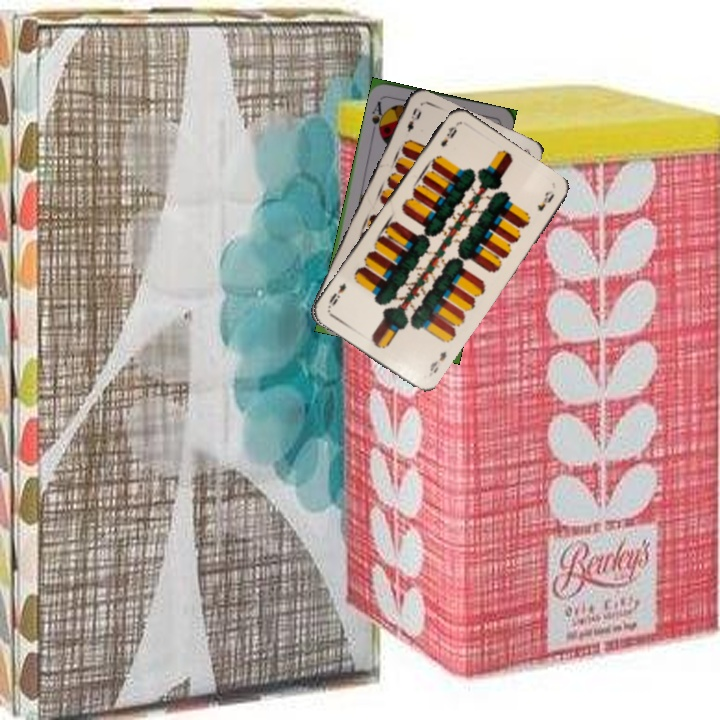E9: (426, 347, 449, 376), (403, 104, 424, 135), (436, 122, 460, 149)
SA: (367, 95, 388, 136)
